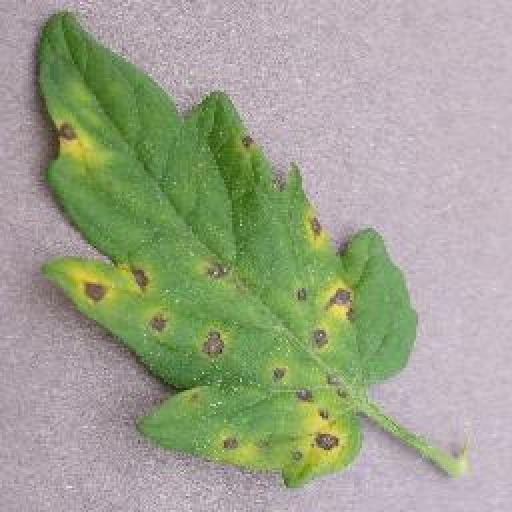Septoria: (39, 10, 418, 486)
